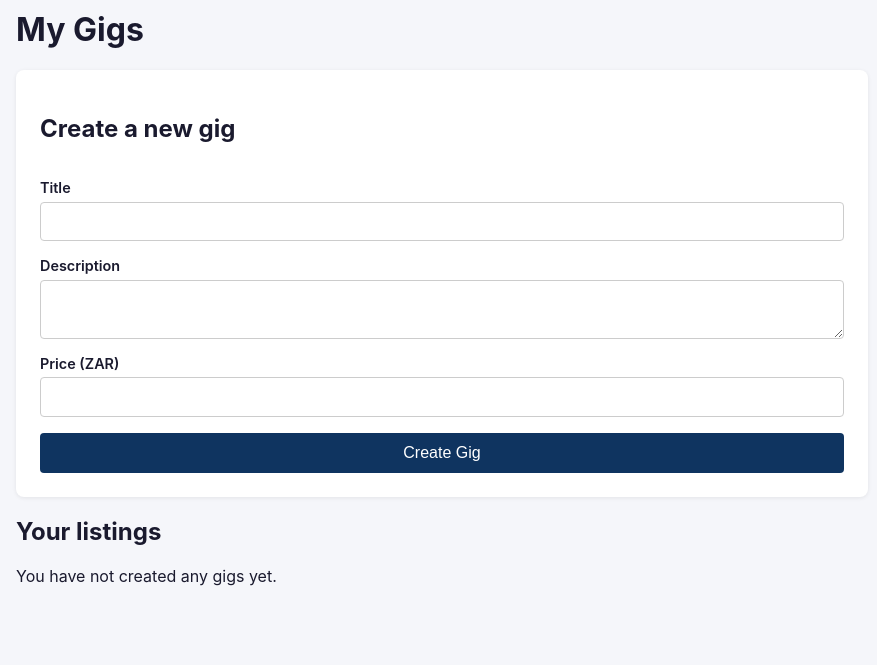
it: MyGigs page › shows the specific field message when gig creation fails validation
The image size is (877, 665).
Expected: the text "You have not created any gigs yet." is shown, [16,566,277,586]
Type "Logo Design" into the field labelled "Title" at (442, 221), box [40,202,844,241]
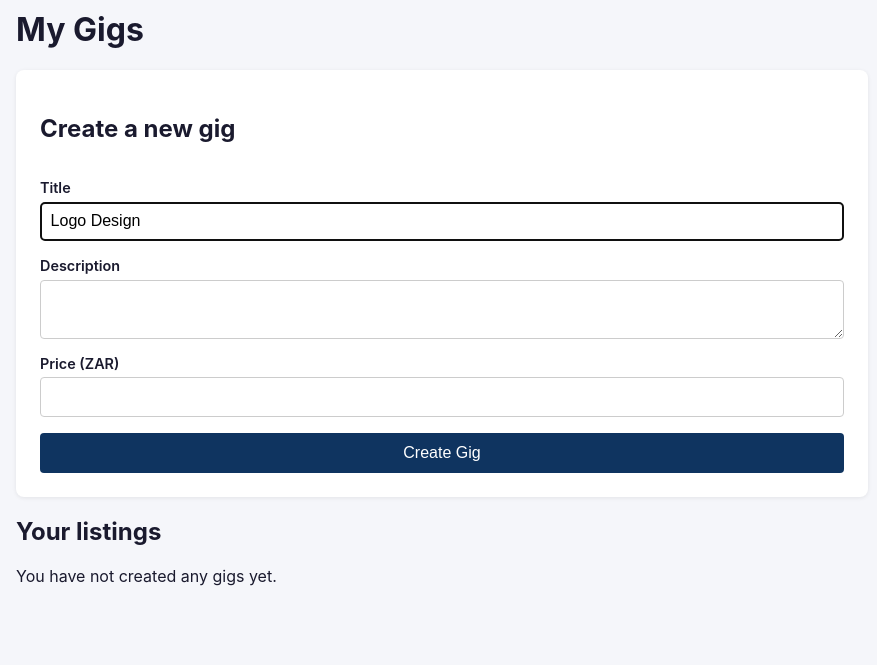
Type "test" into the text box labelled "Description" at (442, 309), box [40,280,844,339]
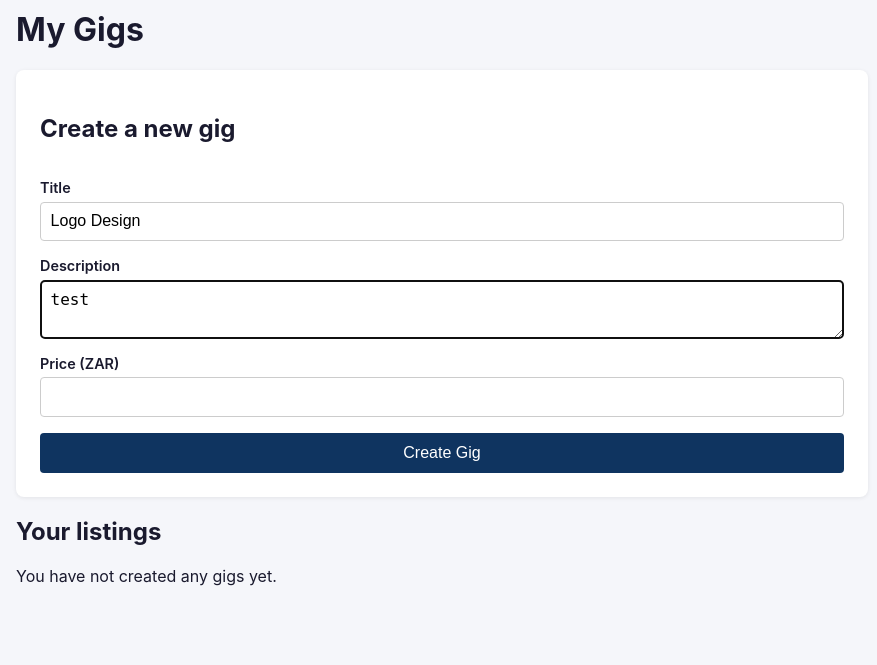
Type "500" into the number field labelled "Price (ZAR)" at (442, 397), box [40,377,844,417]
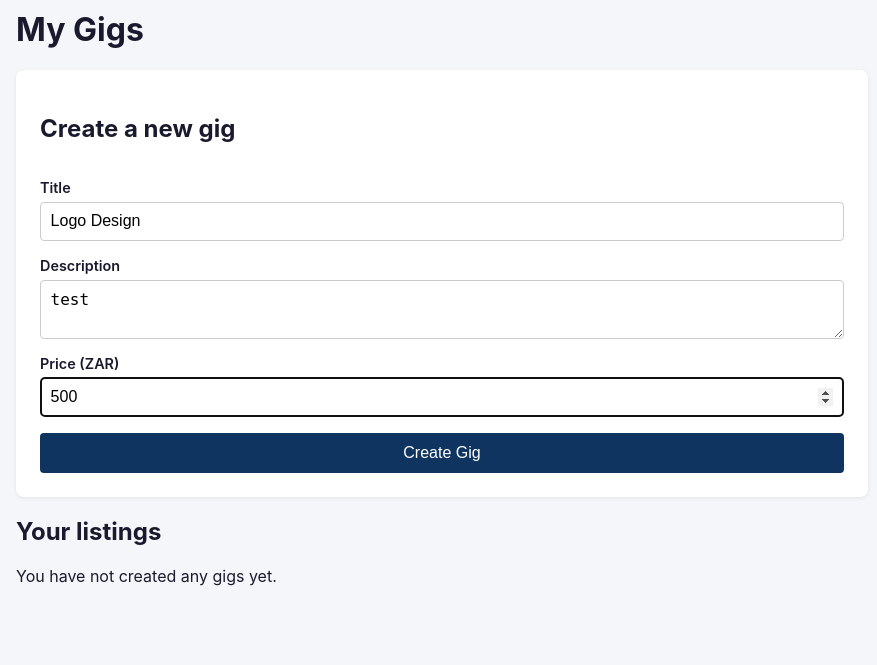
Click the button "Create Gig" at (442, 453), box [40,433,844,473]
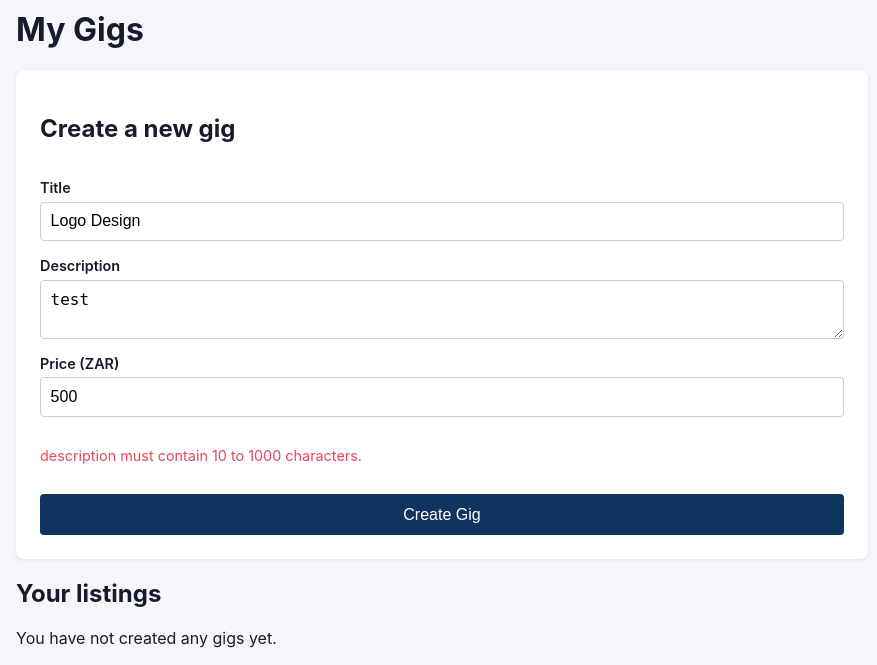
Result: the text "description must contain 10 to 1000 characters." is shown at [40,447,362,464]
